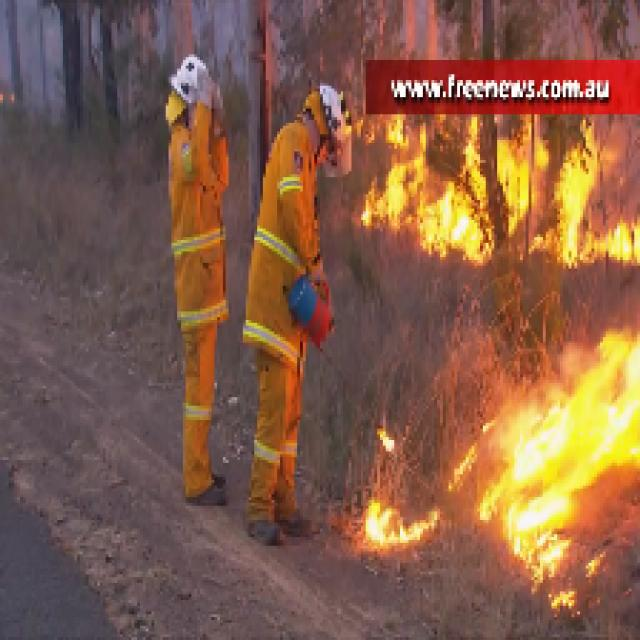fire: (490, 331, 640, 622), (363, 117, 640, 268), (364, 496, 444, 546)
